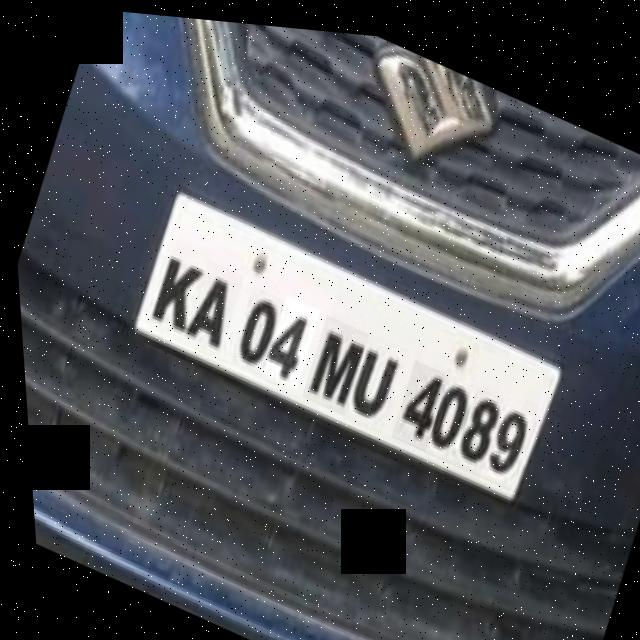0: (413, 363, 476, 463), (221, 280, 286, 374)
4: (381, 350, 450, 447), (254, 288, 321, 385)
8: (442, 376, 503, 474)
9: (474, 392, 532, 478)
A: (175, 254, 246, 355)
K: (136, 232, 211, 341)
M: (292, 307, 370, 413)
U: (334, 323, 409, 430)
